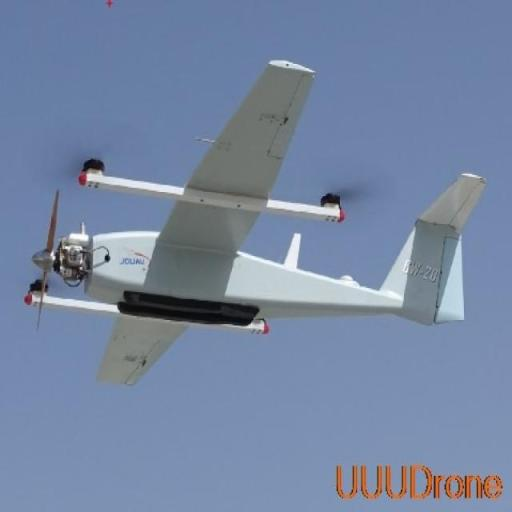uav: (22, 54, 490, 377)
